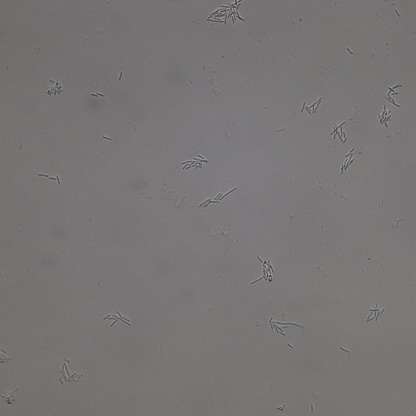R(colony): (207, 1, 244, 23), (200, 187, 238, 207), (268, 317, 307, 336), (251, 254, 275, 284), (60, 360, 83, 385), (103, 311, 132, 328), (180, 155, 210, 170), (339, 149, 355, 174), (330, 121, 348, 143), (386, 83, 402, 107), (366, 304, 386, 323), (301, 98, 323, 114), (46, 79, 64, 96), (379, 104, 391, 128)
